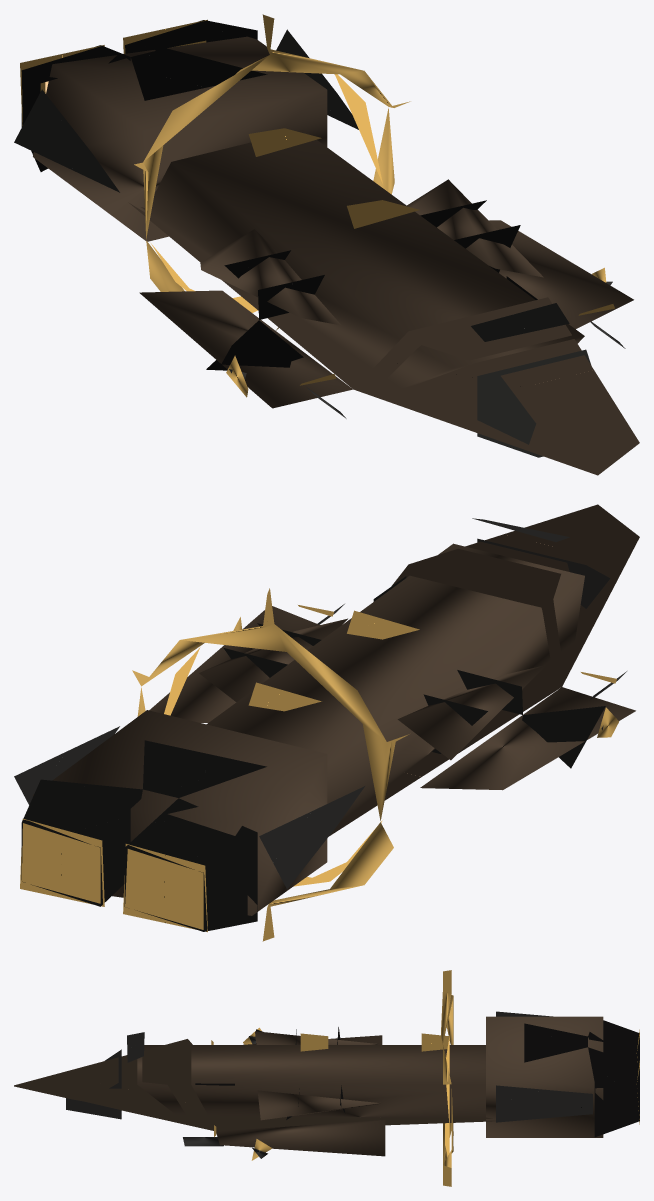
The model's file is goniec-wybudzeni-trade-34-lod2.glb.
3 views of the same model, one above another, from view 1: azimuth 30°, elevation 25°; view 2: azimuth 150°, elevation 25°; view 3: azimuth 270°, elevation 25° (orthographic). The views are drawn at different scales.
Bounding box in the file's own units: 6.8 × 6.08 × 16.
